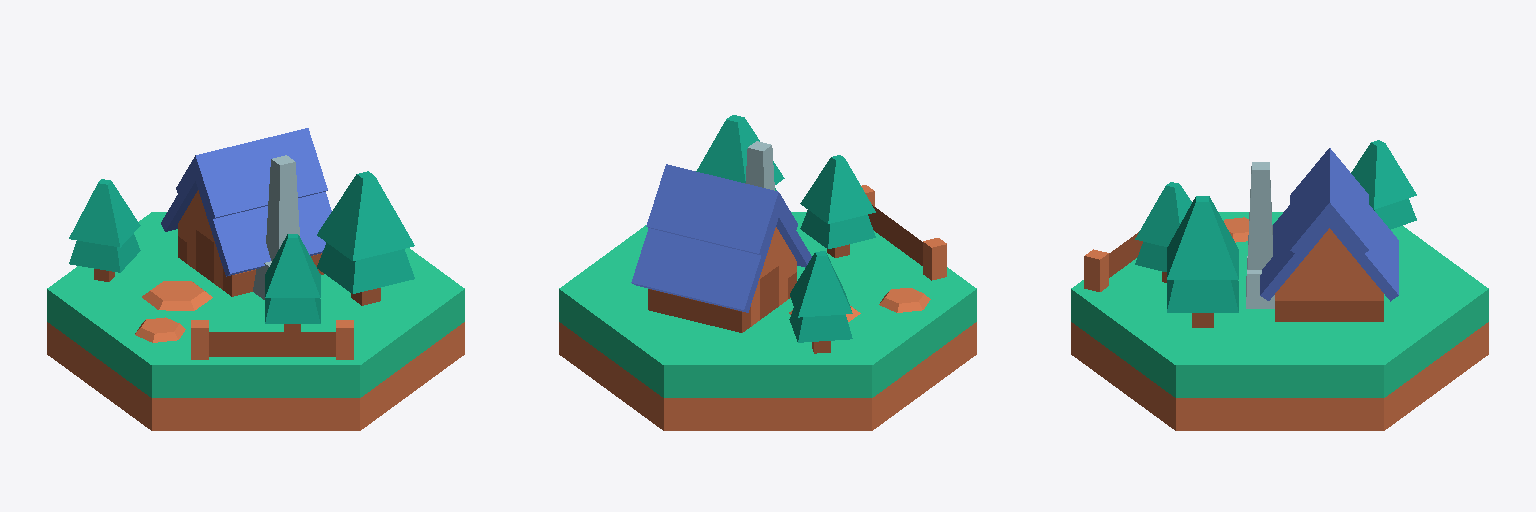
File: building_house.obj
3 renders of one model, left to right at view 1: azimuth 30°, elevation 25°; view 2: azimuth 150°, elevation 25°; view 3: azimuth 270°, elevation 25°, orthographic.
Visible parts, largest first — view 1: building_house, tree, building, fence, chimney, path; view 2: building_house, building, tree, fence, chimney, path; view 3: building_house, building, tree, chimney, fence.
Part boxes in pixels (bbox=[...]): building_house: bbox=[47, 212, 464, 430]; tree: bbox=[69, 171, 414, 331]; building: bbox=[161, 128, 331, 296]; fence: bbox=[191, 320, 353, 359]; chimney: bbox=[253, 155, 299, 299]; path: bbox=[135, 281, 212, 342]; building_house: bbox=[559, 212, 976, 430]; building: bbox=[631, 164, 811, 332]; tree: bbox=[696, 115, 875, 353]; fence: bbox=[861, 185, 946, 280]; chimney: bbox=[745, 141, 774, 190]; path: bbox=[789, 288, 930, 321]; building_house: bbox=[1071, 212, 1488, 430]; building: bbox=[1260, 148, 1398, 321]; tree: bbox=[1135, 140, 1416, 327]; chimney: bbox=[1246, 162, 1274, 308]; fence: bbox=[1084, 232, 1142, 291].
Size of the model in its own units: 1 by 0.6 by 1.15.